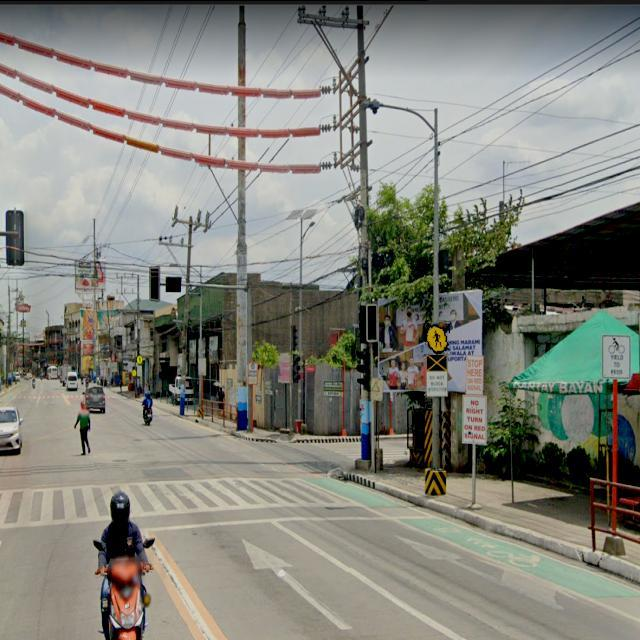pedestrian crossing: (425, 320, 451, 355)
